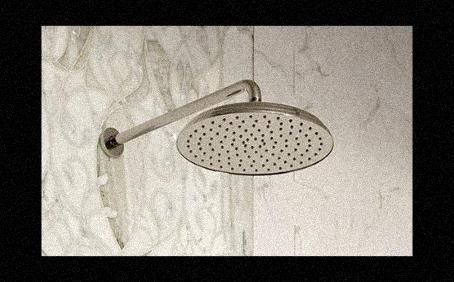Ducha: (42, 26, 412, 256)
